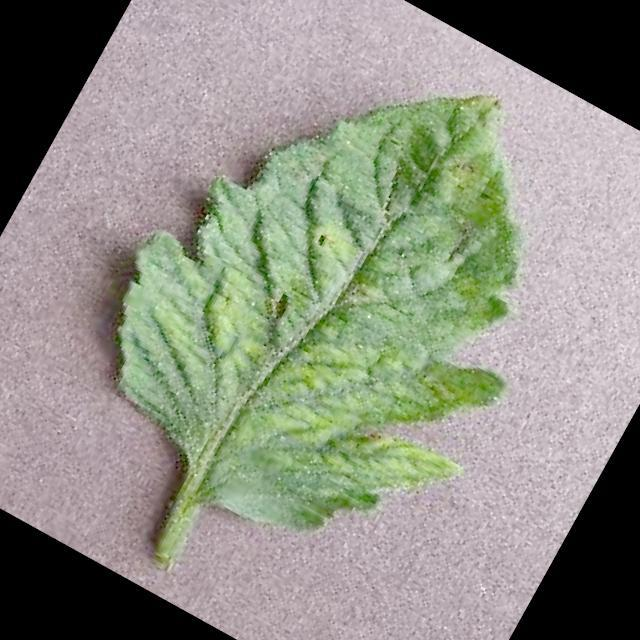Tomato mosaic virus leaf: (46, 0, 636, 608)
